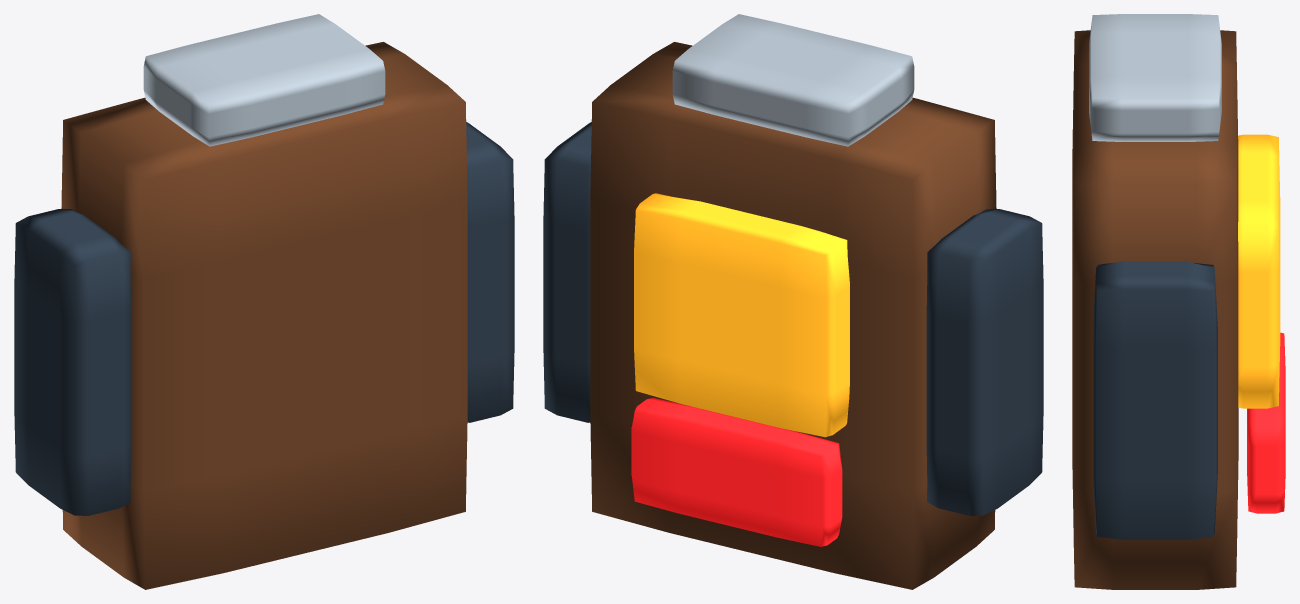
File: backpack-scholar.glb
3 renders of one model, left to right at view 1: azimuth 30°, elevation 25°; view 2: azimuth 150°, elevation 25°; view 3: azimuth 270°, elevation 25°, orthographic.
Parts seen in each view (by area): view 1: Pack, SideL, Top, SideR; view 2: Pack, Panel, SideL, BookPocket, Top, SideR; view 3: Pack, SideR, Top, Panel, BookPocket.
Part boxes in pixels (x1,y1,x2,y2): Pack: (61,42,467,589); SideL: (14,209,131,515); Top: (143,14,385,146); SideR: (466,122,514,422); Pack: (590,42,996,589); Panel: (634,193,849,437); SideL: (926,209,1043,515); BookPocket: (631,398,842,546); Top: (672,14,914,146); SideR: (543,122,591,422); Pack: (1072,30,1238,589); SideR: (1093,261,1217,539); Top: (1089,14,1221,141); Panel: (1238,134,1280,408); BookPocket: (1247,332,1285,513).
Bounding box in the file's own units: 1.81 × 1.83 × 0.77.
